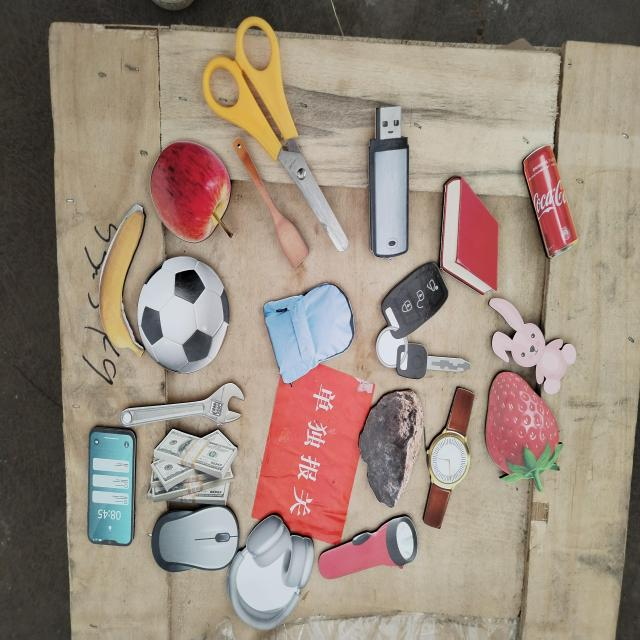Other Objects: (202, 16, 349, 253), (124, 237, 241, 392), (360, 257, 471, 410), (225, 132, 311, 270), (261, 270, 362, 387), (314, 512, 422, 597), (488, 296, 576, 395), (149, 140, 232, 243), (358, 388, 424, 508), (422, 386, 475, 529), (98, 204, 146, 358), (147, 429, 237, 505), (522, 144, 578, 259), (368, 106, 409, 258), (151, 504, 240, 573), (87, 425, 136, 546), (120, 381, 244, 427), (0, 0, 0, 0)
